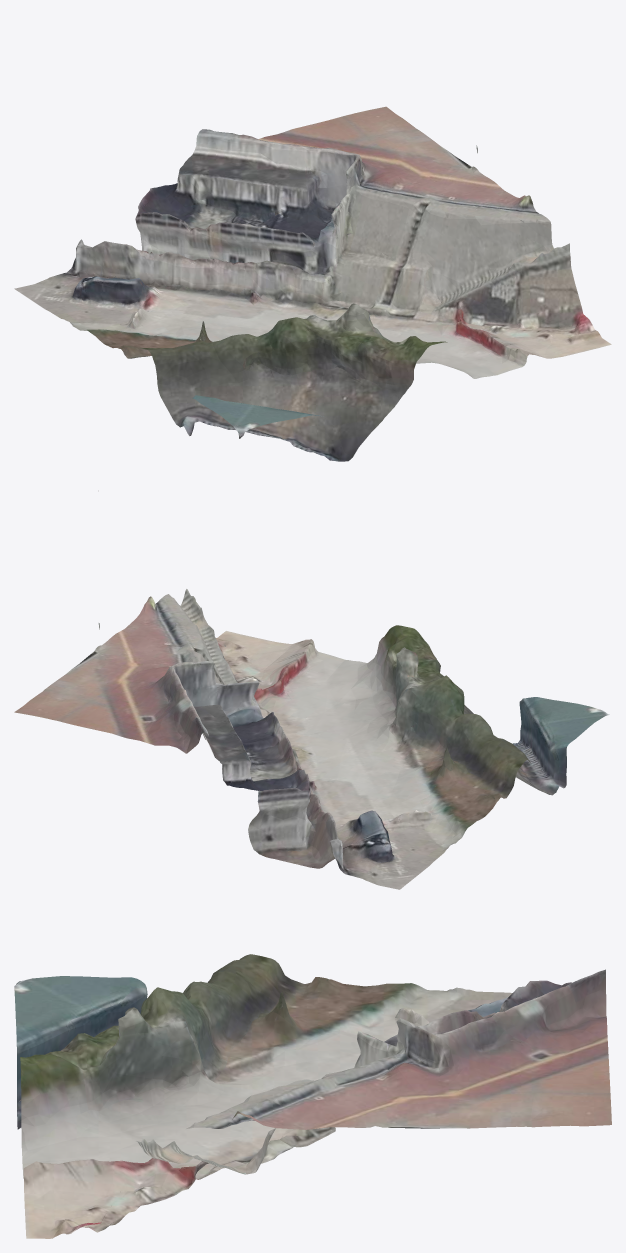
File: Tile_+011_+008_L21_0000011200.glb
3 views of the same model, one above another, from view 1: azimuth 30°, elevation 25°; view 2: azimuth 150°, elevation 25°; view 3: azimuth 270°, elevation 25° (orthographic). The views are drawn at different scales.
Parts seen in each view (by area): view 1: rtc; view 2: rtc; view 3: rtc.
Part boxes in pixels (x1=…): rtc: x1=14, y1=106, x2=611, y2=461; rtc: x1=14, y1=490, x2=609, y2=889; rtc: x1=14, y1=954, x2=611, y2=1238.
Size of the model in its own units: 32.01 by 22.66 by 32.01.
1 material, 1 textured.
